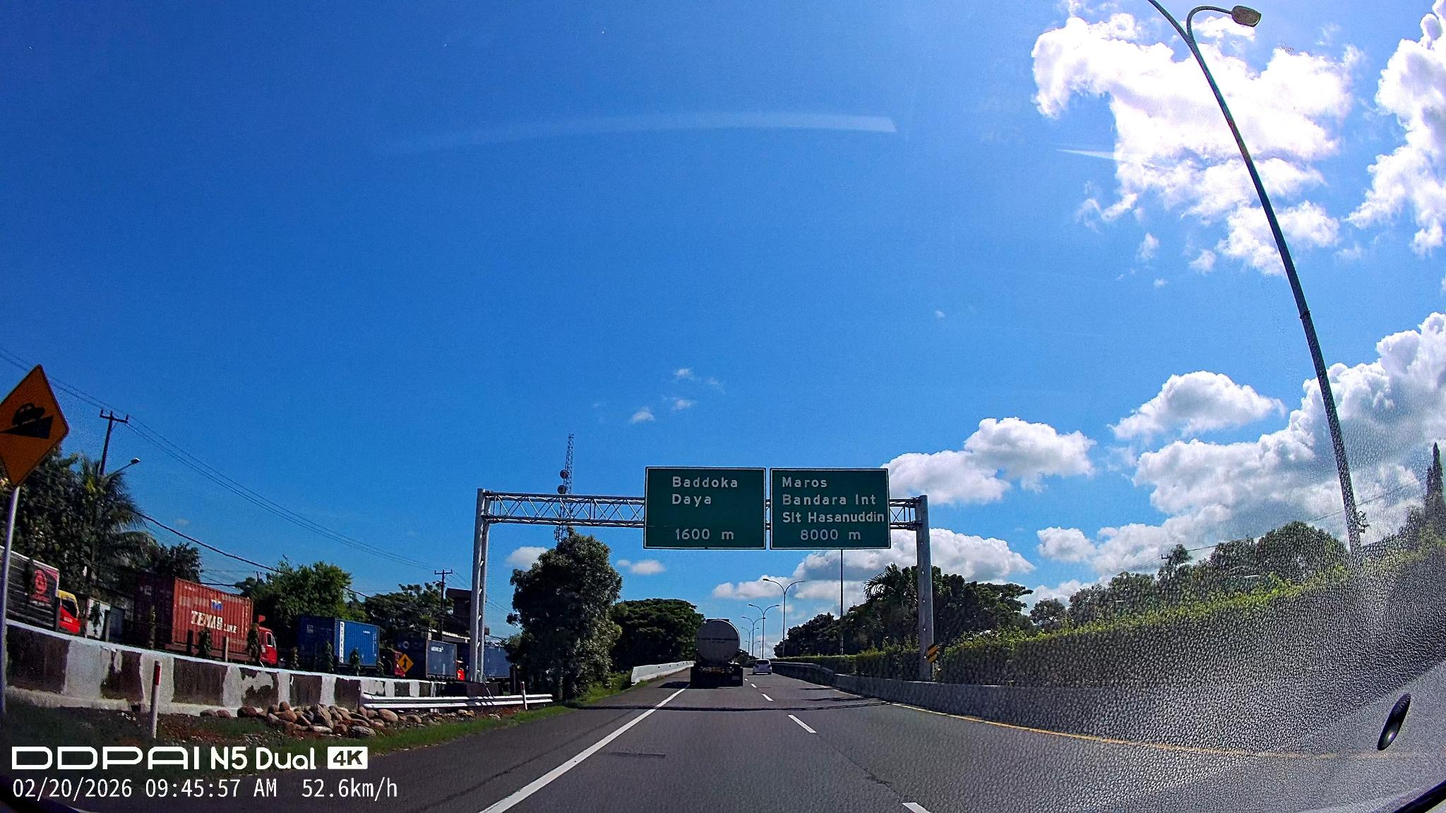rambu_teks: (642, 466, 768, 552), (770, 467, 892, 551)
